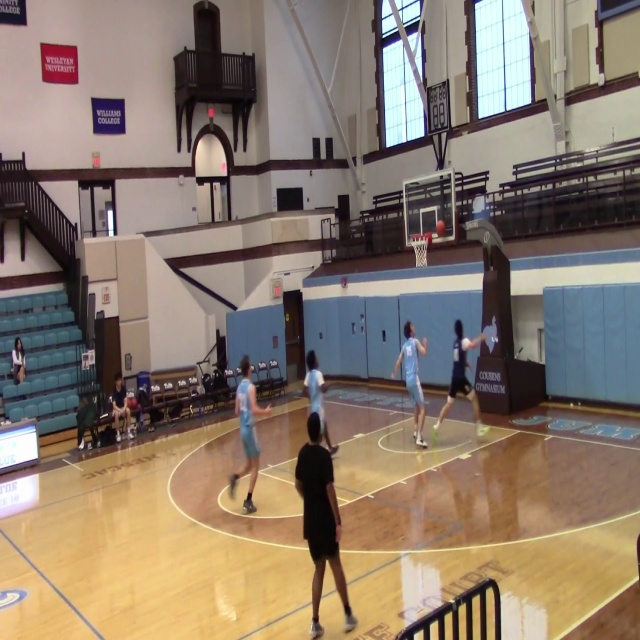Basketball: (436, 220, 445, 236), (127, 397, 138, 409), (461, 338, 470, 351), (208, 108, 215, 116)
